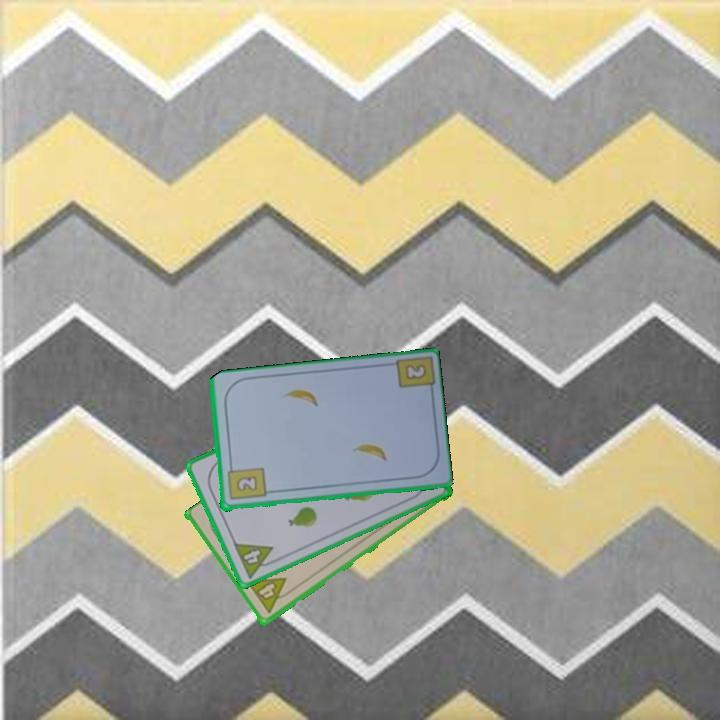2b: (224, 461, 268, 503), (404, 363, 427, 381)
4p: (244, 574, 296, 617), (230, 539, 281, 581)
